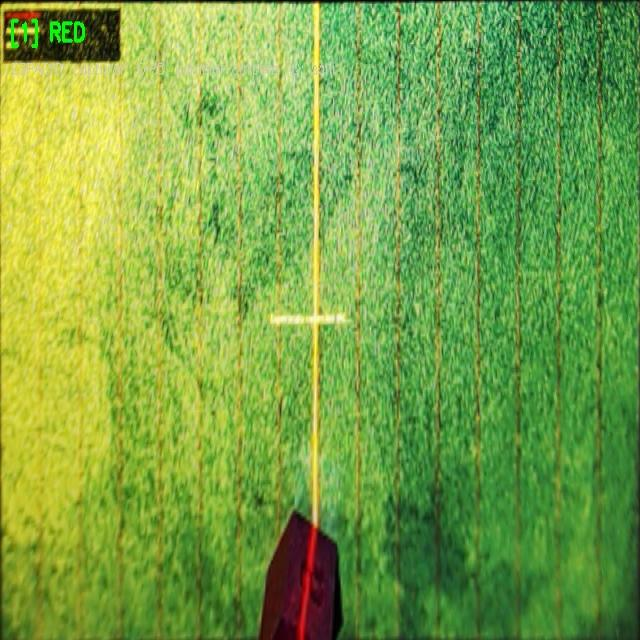red: (259, 512, 342, 639)
